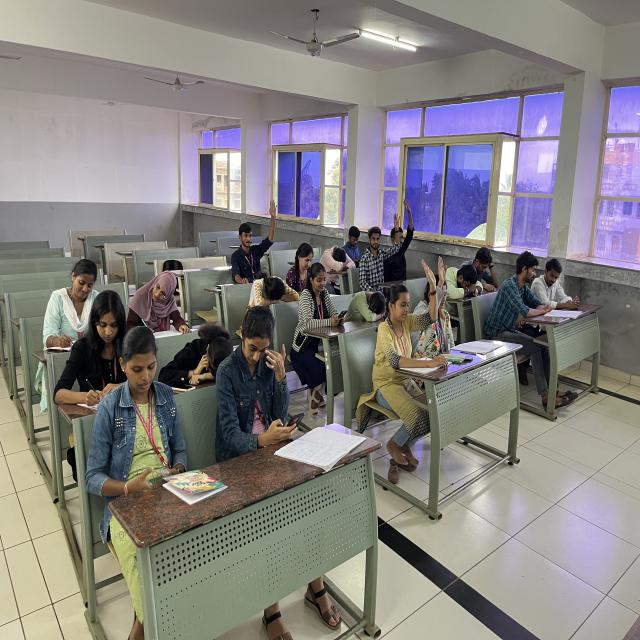Hand Rising: (379, 256, 437, 406), (212, 186, 283, 282), (414, 243, 457, 362), (360, 207, 404, 283), (390, 194, 422, 279)
Sleeping: (156, 298, 247, 392), (341, 263, 390, 324), (249, 265, 302, 314), (441, 253, 484, 308), (320, 237, 360, 280)
Using Phone: (91, 334, 194, 492), (217, 302, 312, 450), (293, 256, 352, 330), (473, 242, 505, 296), (346, 219, 370, 271)
Writing: (46, 289, 142, 424), (23, 244, 110, 366), (125, 247, 198, 341)
